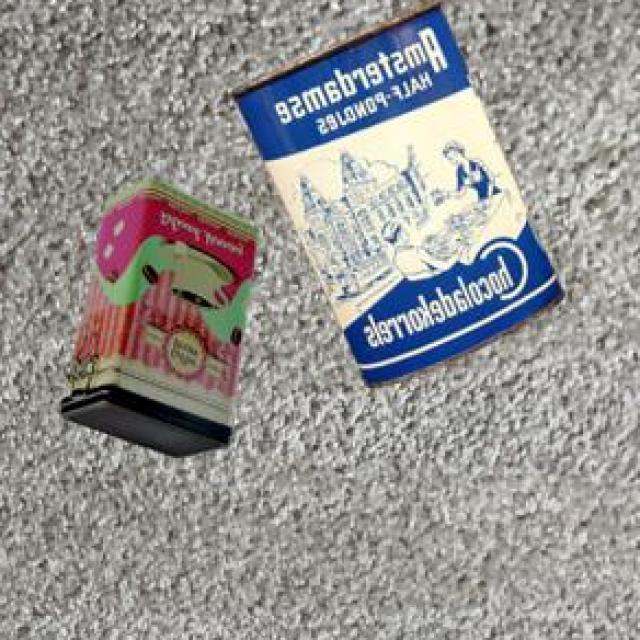logam: (229, 3, 560, 391), (58, 181, 255, 461)
